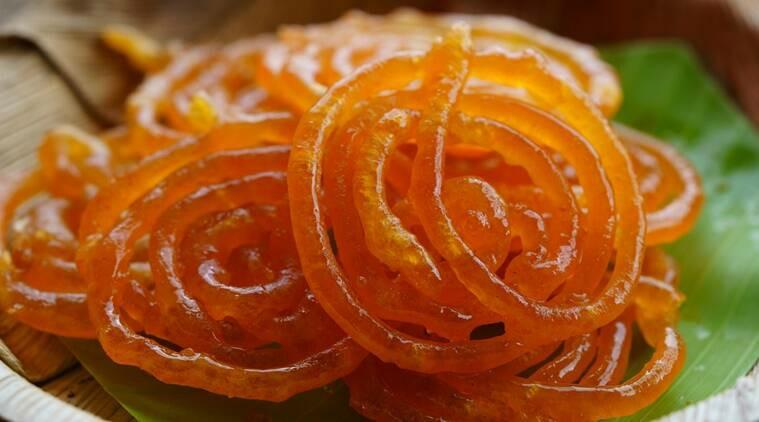Jalebi: (0, 10, 709, 422)
